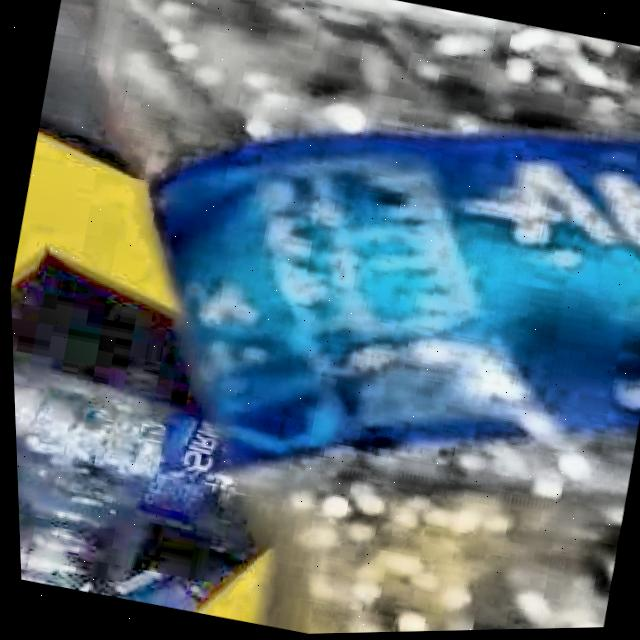plastic: (96, 0, 640, 635)
